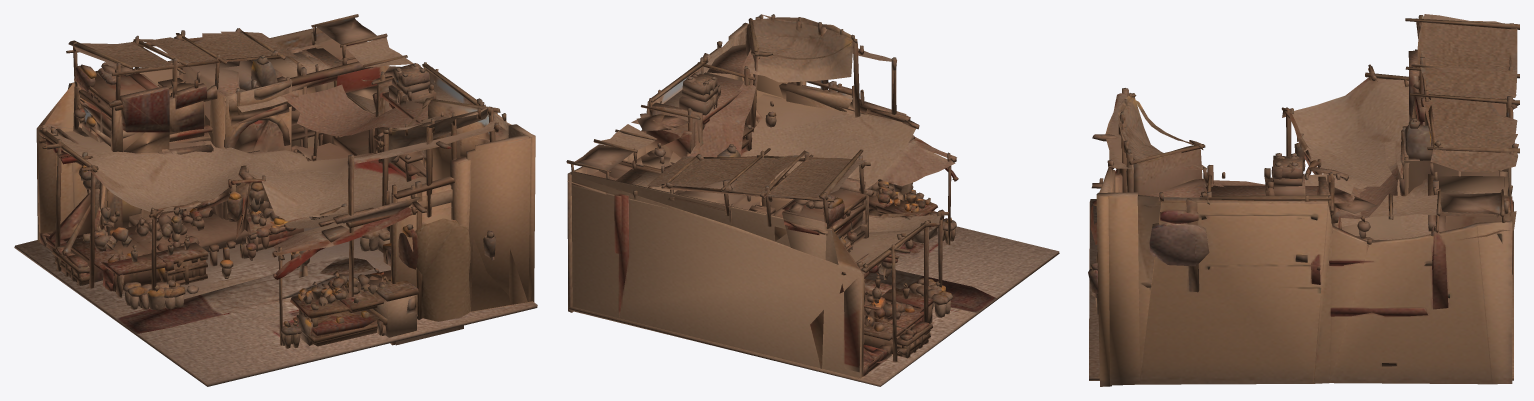
File: marokko bazaar-web.glb
The picture shows the model from 3 angles, left to right: view 1: azimuth 30°, elevation 25°; view 2: azimuth 150°, elevation 25°; view 3: azimuth 270°, elevation 25°; orthographic projection. The views are drawn at different scales.
Bounding box in the file's own units: 0.9941 × 0.6152 × 0.9902.
1 material, 1 textured.
